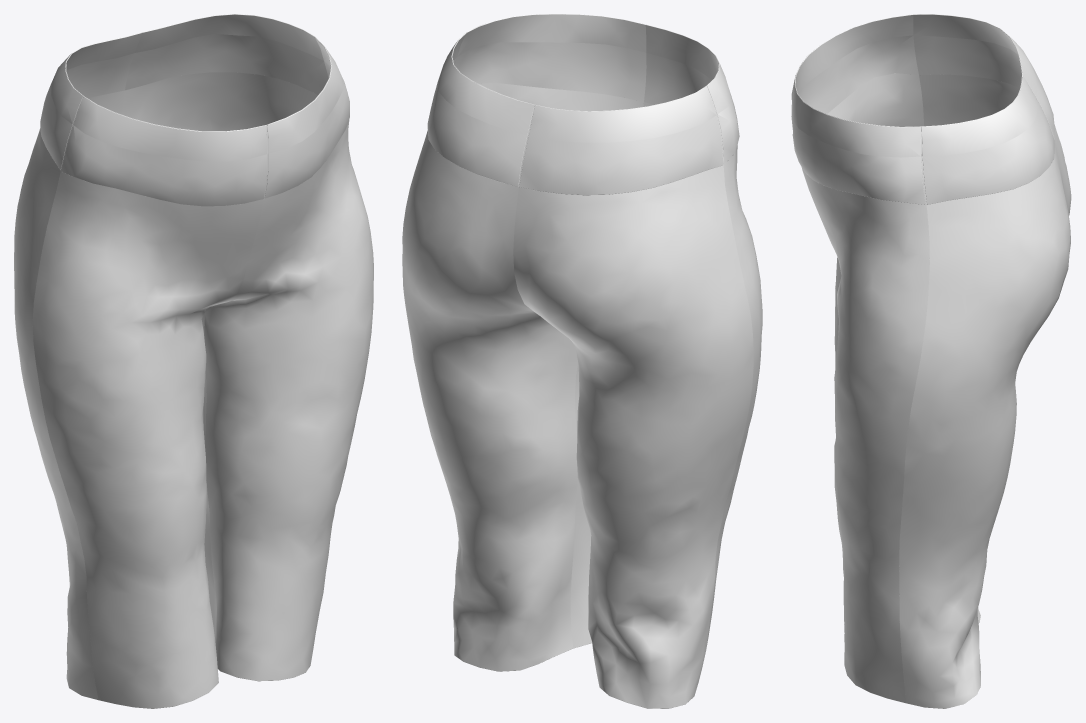
File: femaleShorts.glb
3 views of the same model, side by side, from view 1: azimuth 30°, elevation 25°; view 2: azimuth 150°, elevation 25°; view 3: azimuth 270°, elevation 25° (orthographic). The views are drawn at different scales.
Visible parts, largest first — view 1: shorts; view 2: shorts; view 3: shorts.
Boxes of the visible parts, x1,y1,x2,y2 form: shorts: (14,14,373,708); shorts: (402,14,762,708); shorts: (791,14,1071,708).
Bounding box in the file's own units: 3.63 × 6.37 × 2.75.
1 material, 1 textured.
